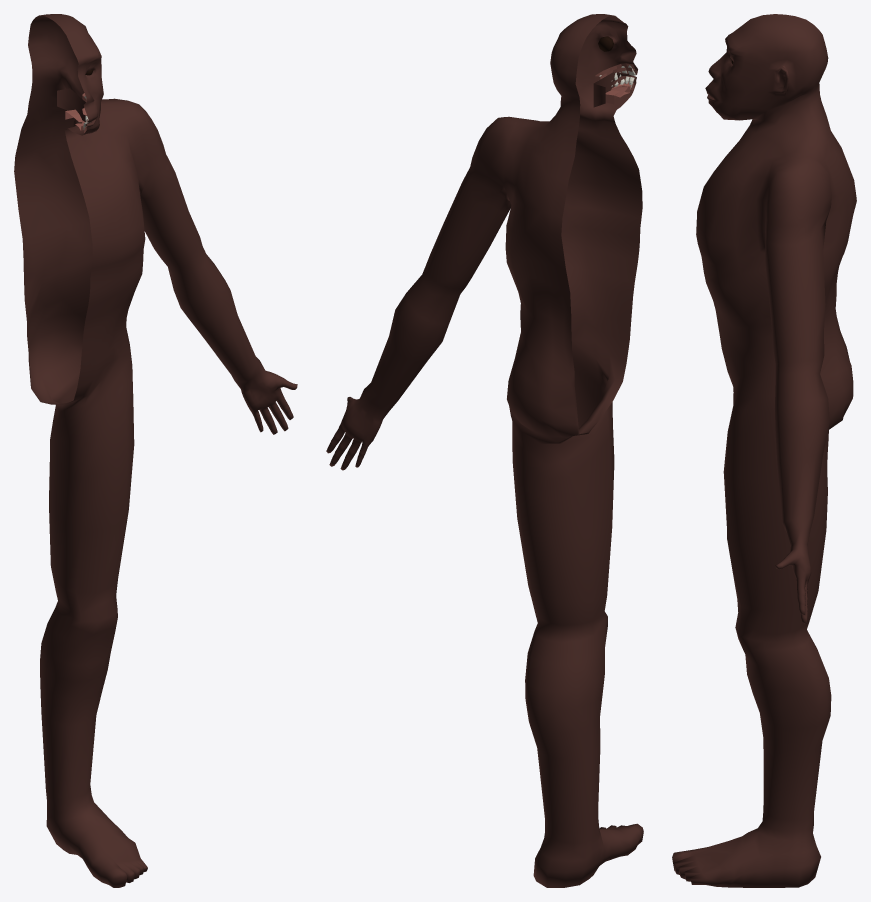
The model's file is turkana.glb.
3 views of the same model, side by side, from view 1: azimuth 30°, elevation 25°; view 2: azimuth 150°, elevation 25°; view 3: azimuth 270°, elevation 25° (orthographic). The views are drawn at different scales.
Parts seen in each view (by area): view 1: Body; view 2: Body, Teeth; view 3: Body.
Boxes of the visible parts, <box> form: Body: <box>14,14,297,887</box>; Body: <box>326,14,643,887</box>; Teeth: <box>595,63,635,104</box>; Body: <box>672,14,856,887</box>.
Bounding box in the file's own units: 0.5056 × 1.59 × 0.315.
